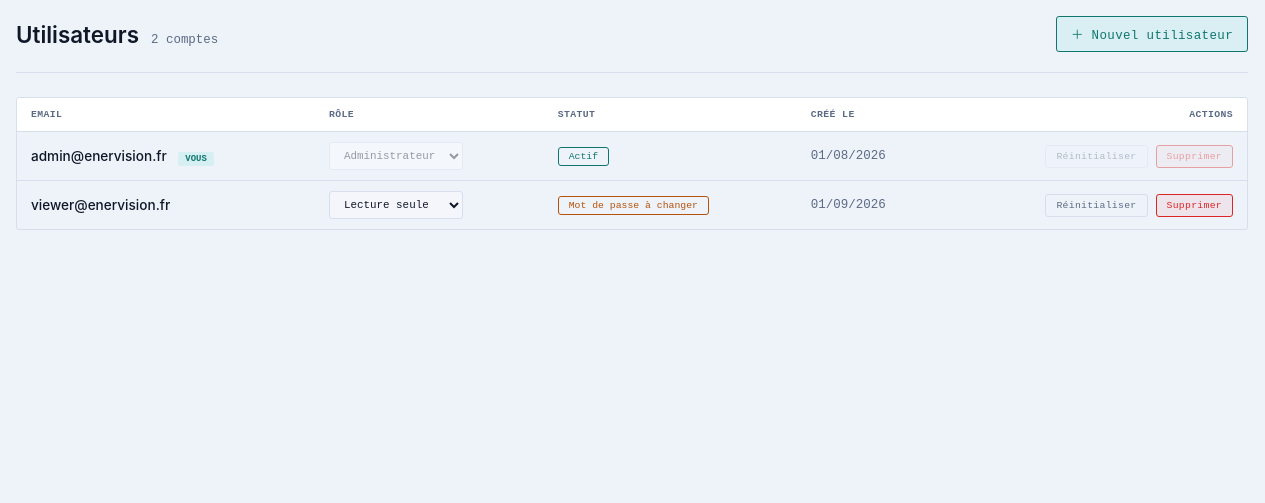
Test: UsersView › signale un email déjà utilisé
Step 1. Click the button "＋ Nouvel utilisateur" → (1152, 34), box [1056,16,1248,52]
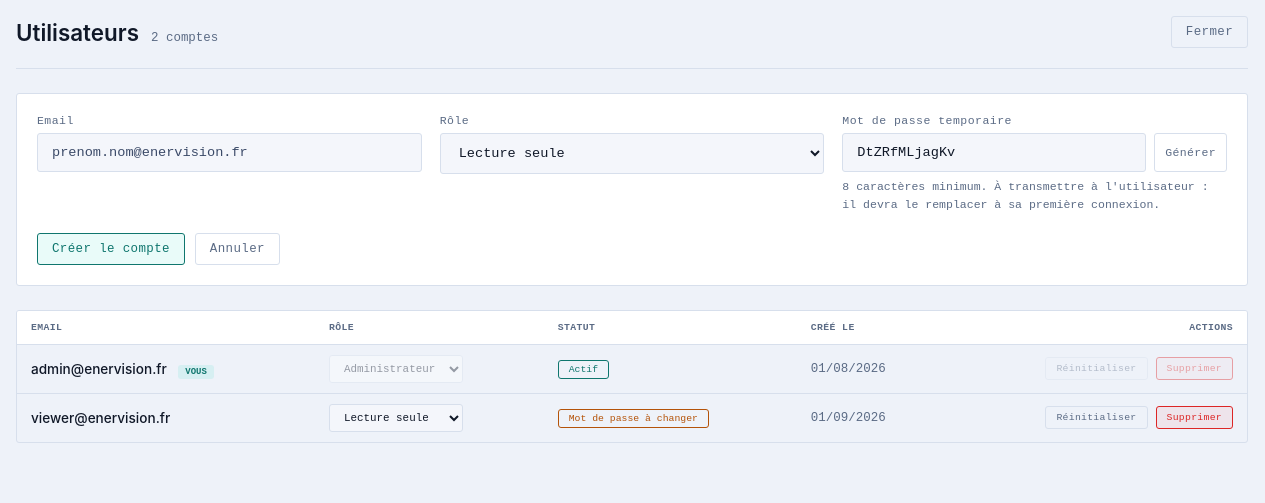
Step 2. Type "admin@enervision.fr" into the field with id "nouvel-email" → (229, 152), box [37,133,422,172]
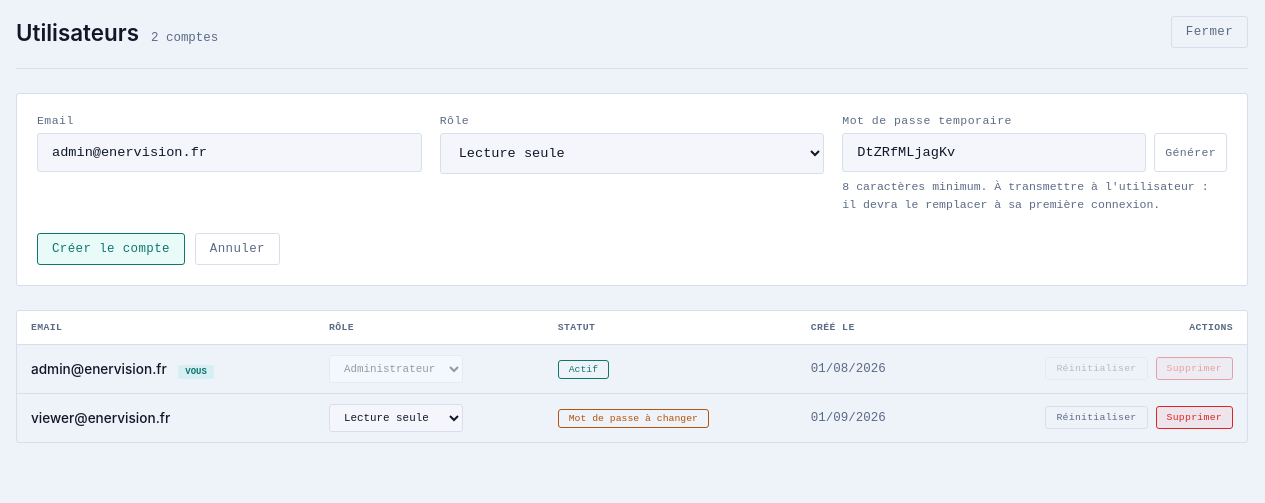
Step 3. Submit the form with class "creation", box [16,93,1248,286]
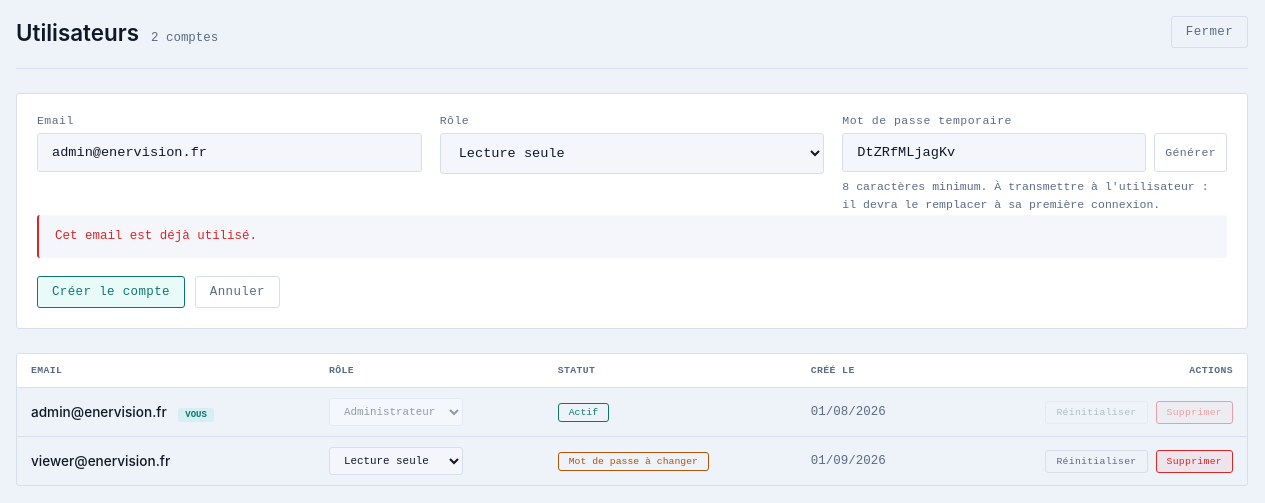
Now the form with class "creation" is shown, box [16,93,1248,329]
Now the text with class "alert-error" reads "Cet email est déjà utilisé.", box [55,229,257,243]
